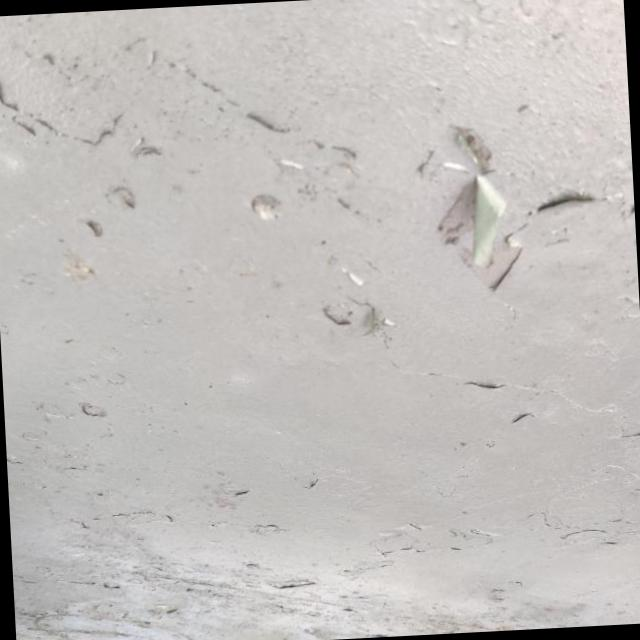Paint-off: (438, 132, 522, 290)
